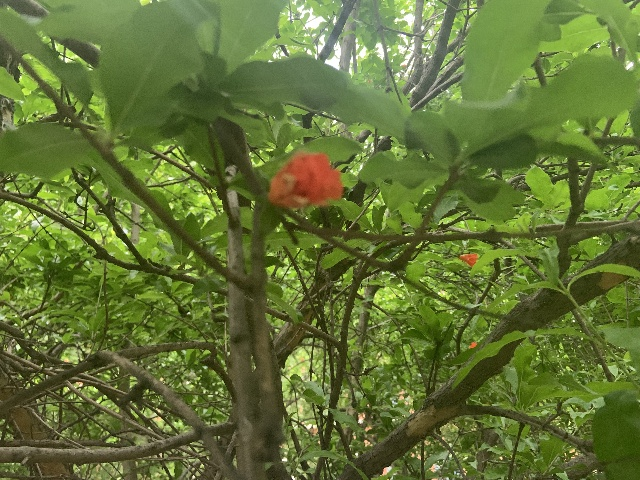flower: (267, 150, 344, 209), (459, 253, 478, 267)
